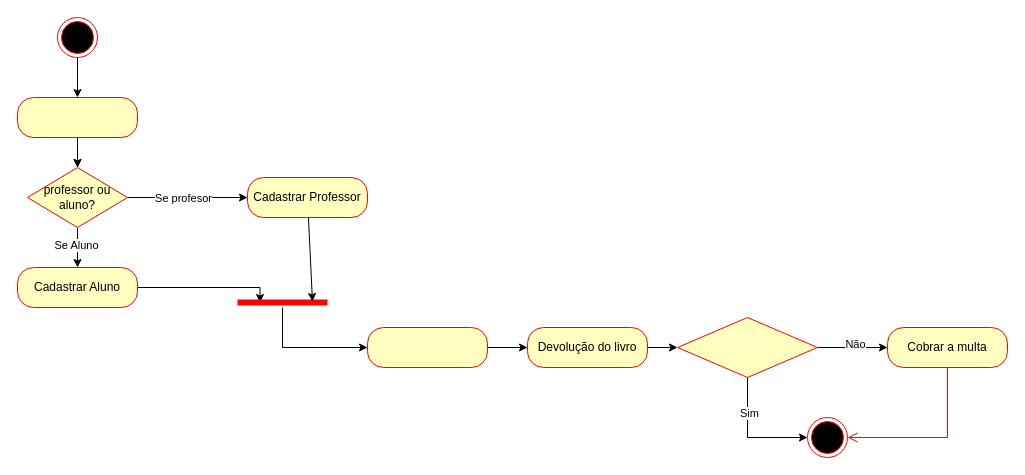
The diagram is 1025 pixels wide and 475 high, and some of its shapes have lost their labels. The centre of each missing label's shape, as x and y in pixels:
"Cadastrar Usuário" goes at (77,117).
"Devolveu no praso?" goes at (747,347).
"Empréstimo do livro" goes at (427,347).
